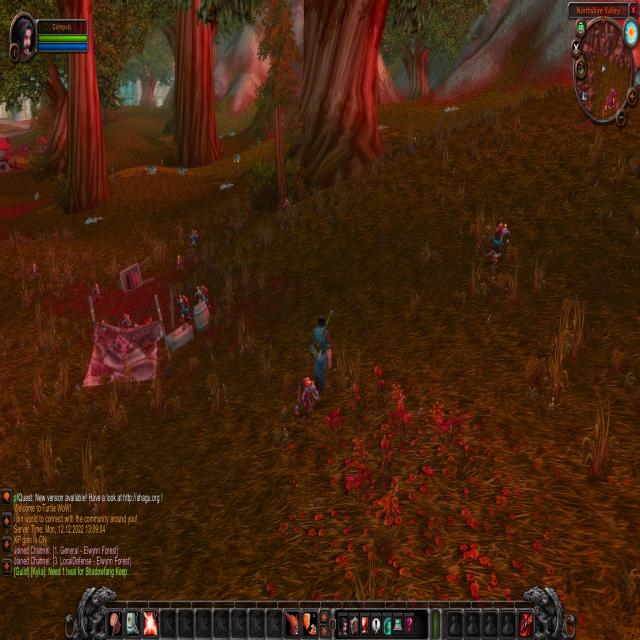wolf: (141, 159, 160, 181), (442, 100, 461, 120), (83, 211, 106, 227), (173, 160, 191, 179), (217, 178, 236, 194), (230, 146, 242, 168), (248, 136, 263, 152), (373, 120, 390, 134), (32, 183, 42, 204), (226, 126, 236, 139), (215, 128, 223, 144)
